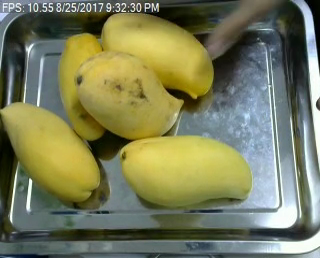Mango: (0, 101, 100, 203), (74, 51, 184, 140), (102, 13, 214, 99), (119, 134, 252, 206), (59, 31, 108, 140)
